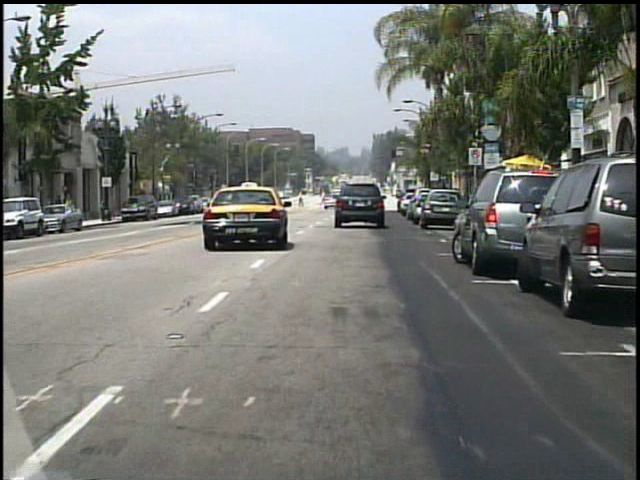person: (53, 191, 67, 224), (66, 192, 77, 222), (320, 189, 328, 208), (297, 190, 305, 208)
